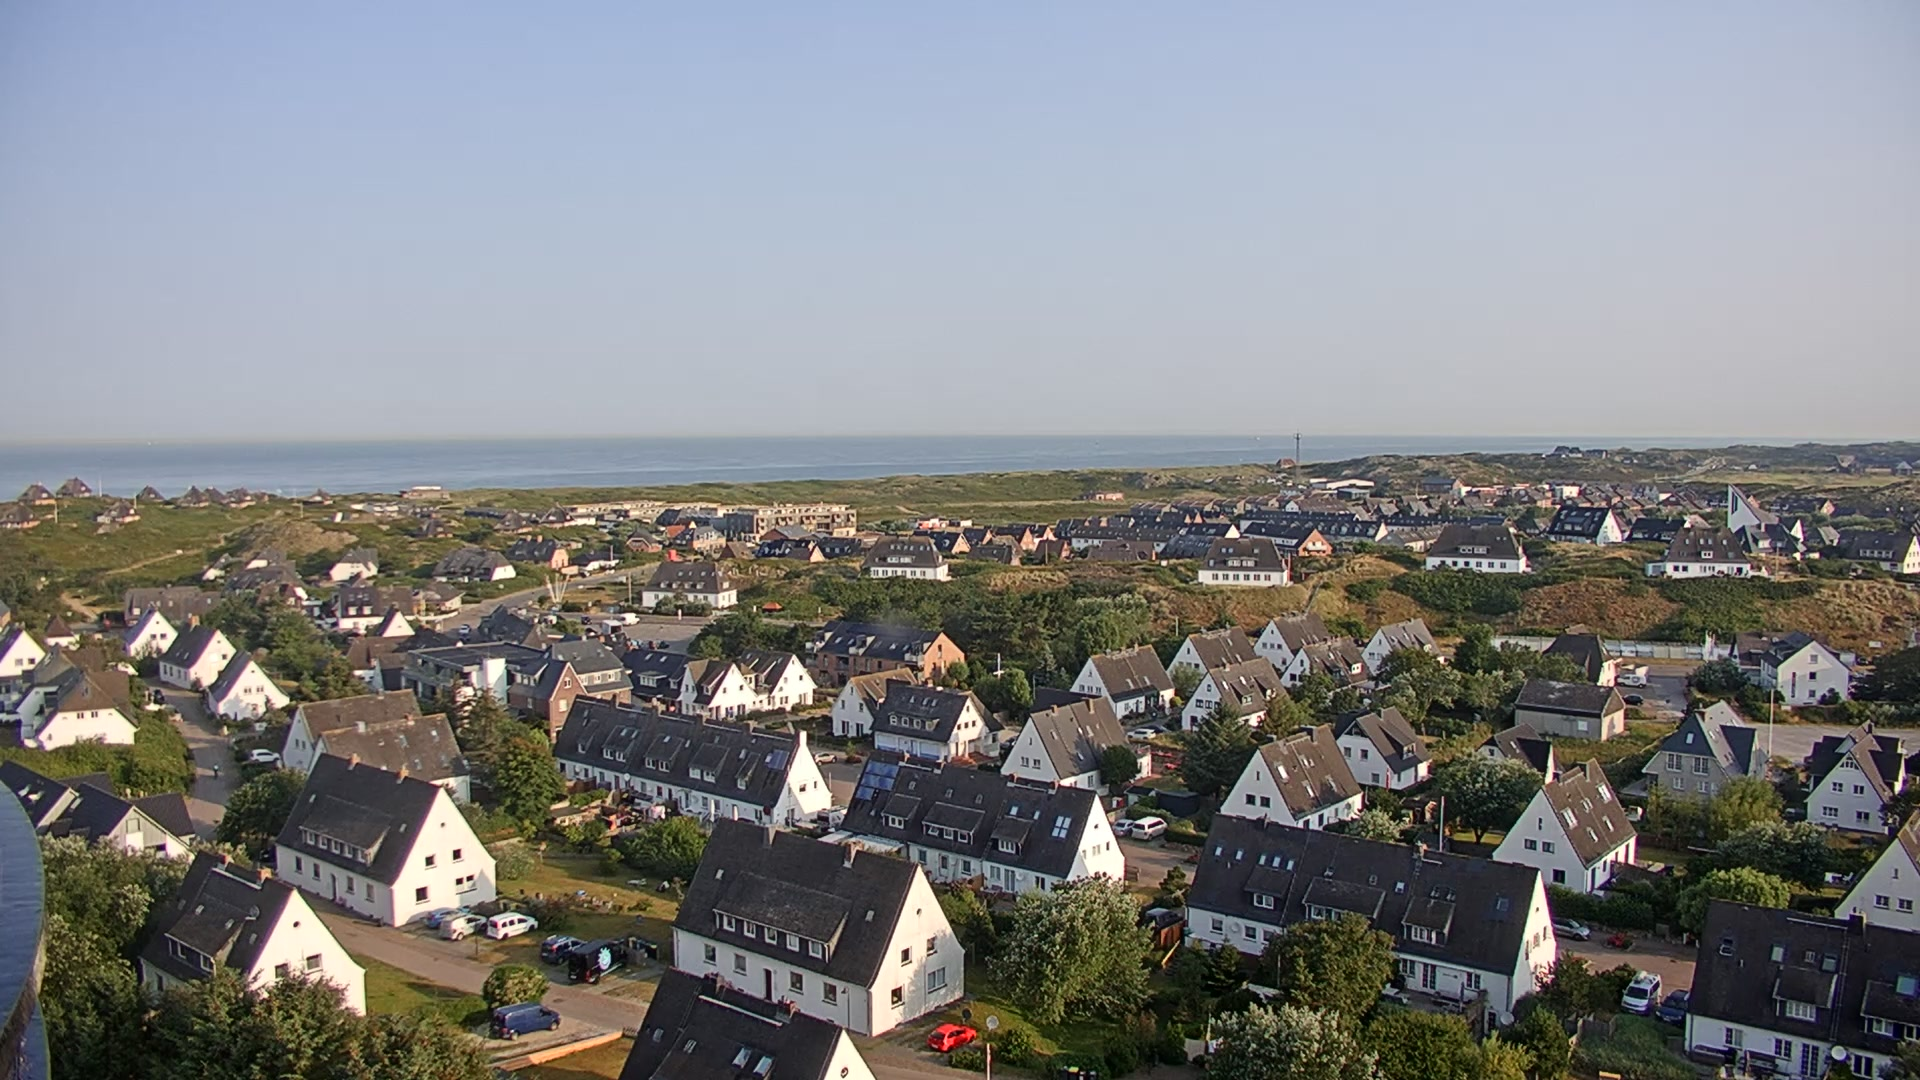human: (212, 762, 220, 780)
land: (566, 935, 631, 983), (489, 999, 561, 1040), (1619, 968, 1663, 1014), (924, 1020, 977, 1052), (538, 932, 588, 965), (487, 910, 540, 940), (437, 910, 488, 941), (1654, 987, 1690, 1025), (1550, 915, 1593, 941), (423, 905, 470, 928), (1131, 814, 1170, 840), (815, 803, 849, 832), (1142, 906, 1185, 928), (1613, 671, 1646, 688), (250, 747, 280, 762), (1124, 728, 1155, 741), (1111, 818, 1132, 838), (616, 612, 639, 626), (813, 751, 838, 766), (1621, 692, 1645, 705), (1139, 723, 1170, 732), (1856, 655, 1870, 666), (458, 622, 469, 634), (580, 616, 591, 625)
